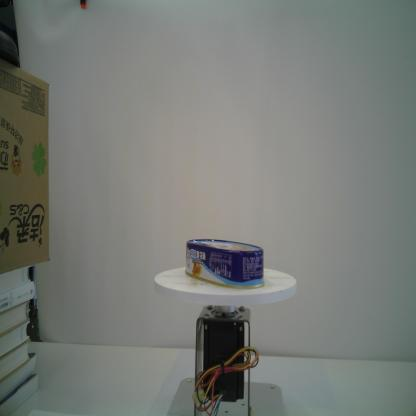Canned Food: (185, 238, 265, 290)
